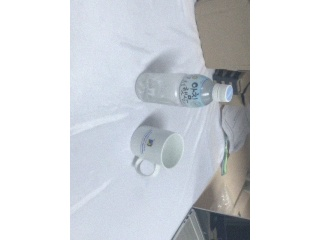bottle: (135, 72, 233, 108)
cup: (130, 124, 184, 177)
